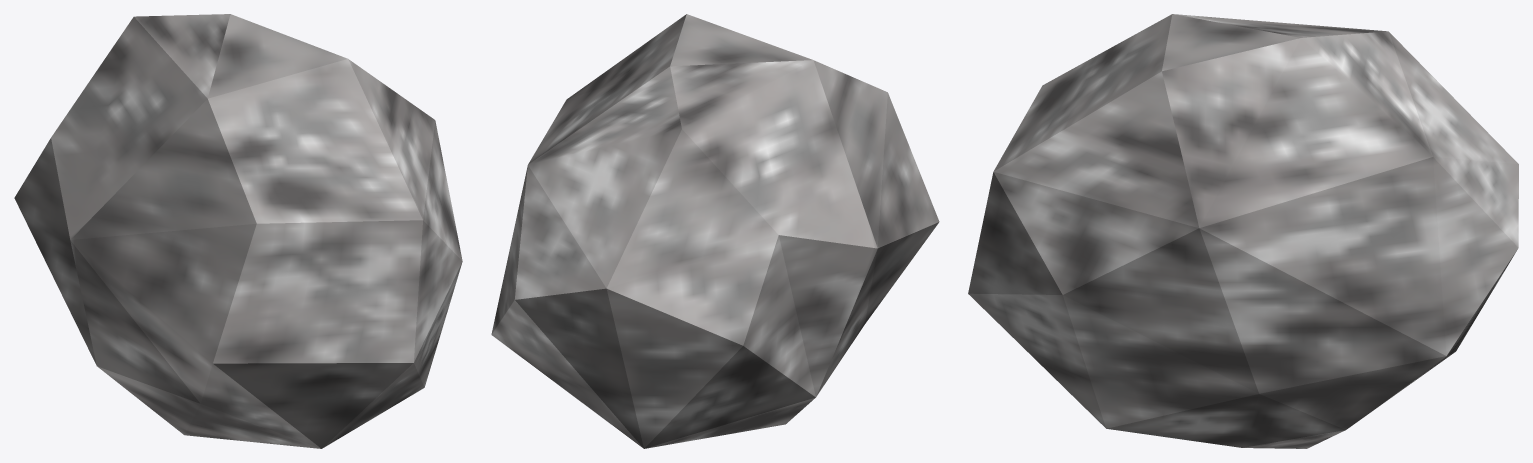
The model's file is medium_rock_v2.glb.
3 views of the same model, side by side, from view 1: azimuth 30°, elevation 25°; view 2: azimuth 150°, elevation 25°; view 3: azimuth 270°, elevation 25° (orthographic). The views are drawn at different scales.
Visible parts, largest first — view 1: Sphere.005; view 2: Sphere.005; view 3: Sphere.005.
Boxes of the visible parts, <box> form: Sphere.005: <box>14,14,462,448</box>; Sphere.005: <box>491,14,939,448</box>; Sphere.005: <box>968,14,1518,448</box>.
Size of the model in its own units: 3.87 by 4.08 by 5.21.
1 material, 1 textured.
